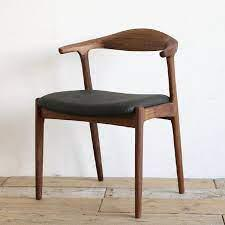chair: (22, 20, 198, 219)
